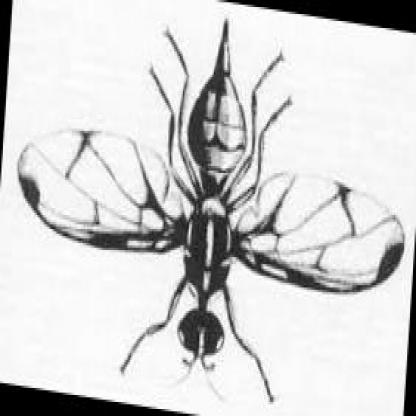fruit fly: (17, 23, 406, 403)
